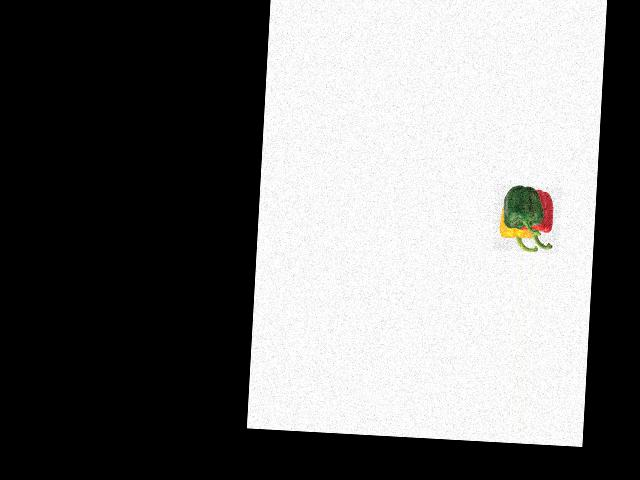bell_pepper: (520, 187, 562, 251)
